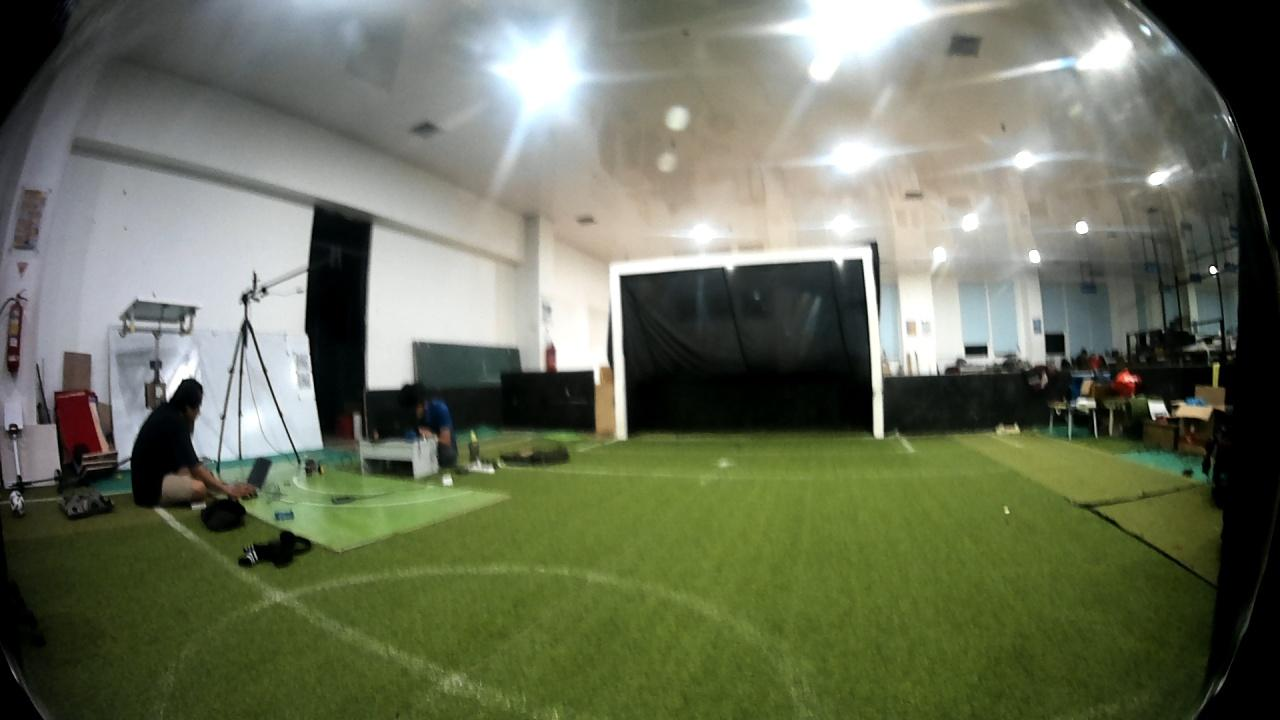ball: (5, 488, 29, 519)
